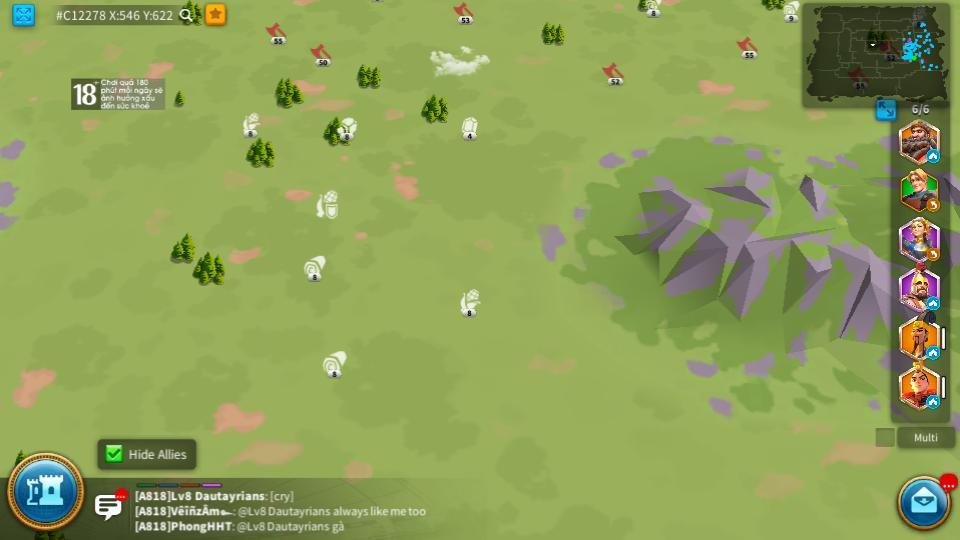gem-z-out: (459, 117, 479, 139)
march_idle: (926, 396, 940, 407), (927, 151, 940, 162), (927, 347, 940, 357), (925, 297, 938, 307)
march_returning: (926, 199, 941, 211), (927, 248, 941, 260)
